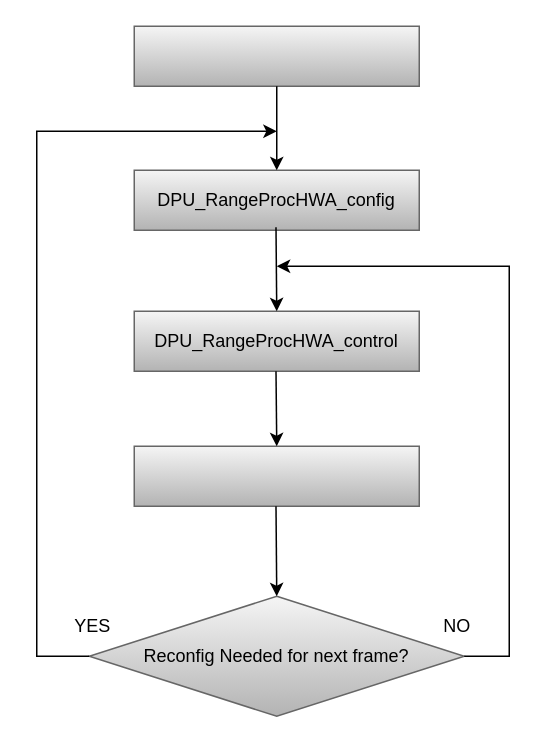
Some shapes in this 548 by 743 pixel diagram are drawn without their labels. Here are the shapes that lost their labels. From the top down, the centre of each, then its label:
(276,55): DPU_RangeProcHWA_init
(276,475): DPU_RangeProcHWA_process
